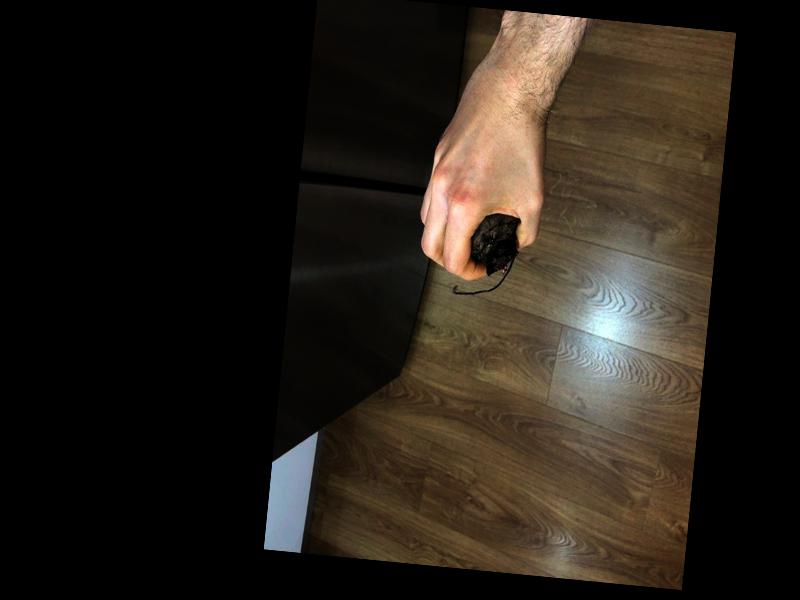Beet: (451, 210, 520, 302)
